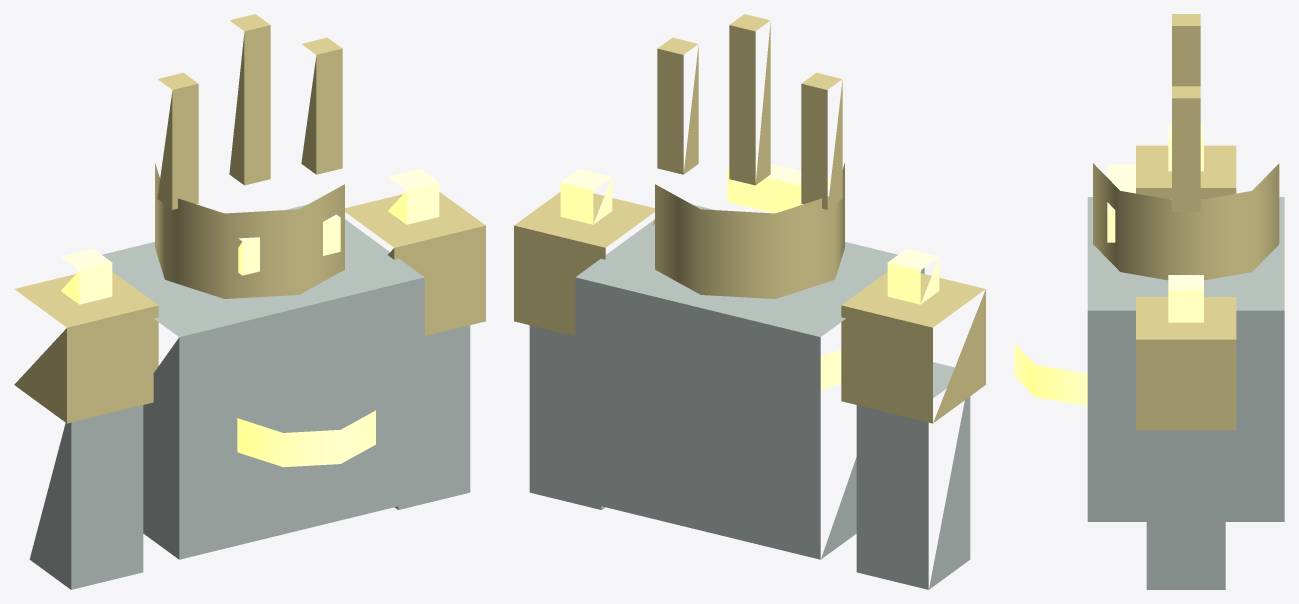
The model's file is golem_luminous_05.glb.
3 renders of one model, left to right at view 1: azimuth 30°, elevation 25°; view 2: azimuth 150°, elevation 25°; view 3: azimuth 270°, elevation 25°, orthographic. The views are drawn at different scales.
Parts seen in each view (by area): view 1: LuminousChrome, LuminousGold, LuminousGlow; view 2: LuminousChrome, LuminousGold, LuminousGlow; view 3: LuminousChrome, LuminousGold, LuminousGlow.
Boxes of the visible parts, left/top/right/bottom form: LuminousChrome: left=29, top=204, right=470, bottom=589; LuminousGold: left=14, top=14, right=485, bottom=423; LuminousGlow: left=61, top=169, right=439, bottom=467; LuminousChrome: left=529, top=204, right=970, bottom=589; LuminousGold: left=514, top=14, right=985, bottom=423; LuminousGlow: left=560, top=160, right=939, bottom=389; LuminousChrome: left=1087, top=197, right=1284, bottom=589; LuminousGold: left=1093, top=14, right=1279, bottom=430; LuminousGlow: left=1014, top=123, right=1203, bottom=405.
Size of the model in its own units: 1.28 by 1.47 by 0.755.
